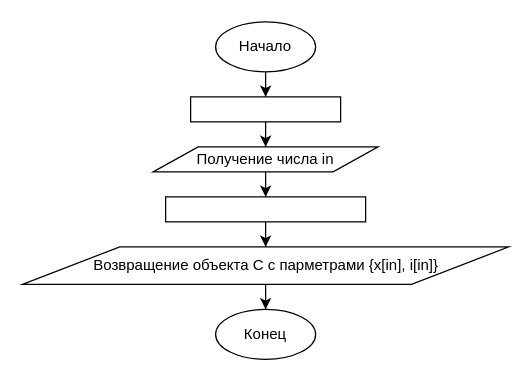
Image size: 530x381. Some labels were removed from this diagram. Each missing label, with the centre of its shape:
"in = in < size ? in : size - 1" goes at [265,209].
"Целове число in" goes at [265,109].
